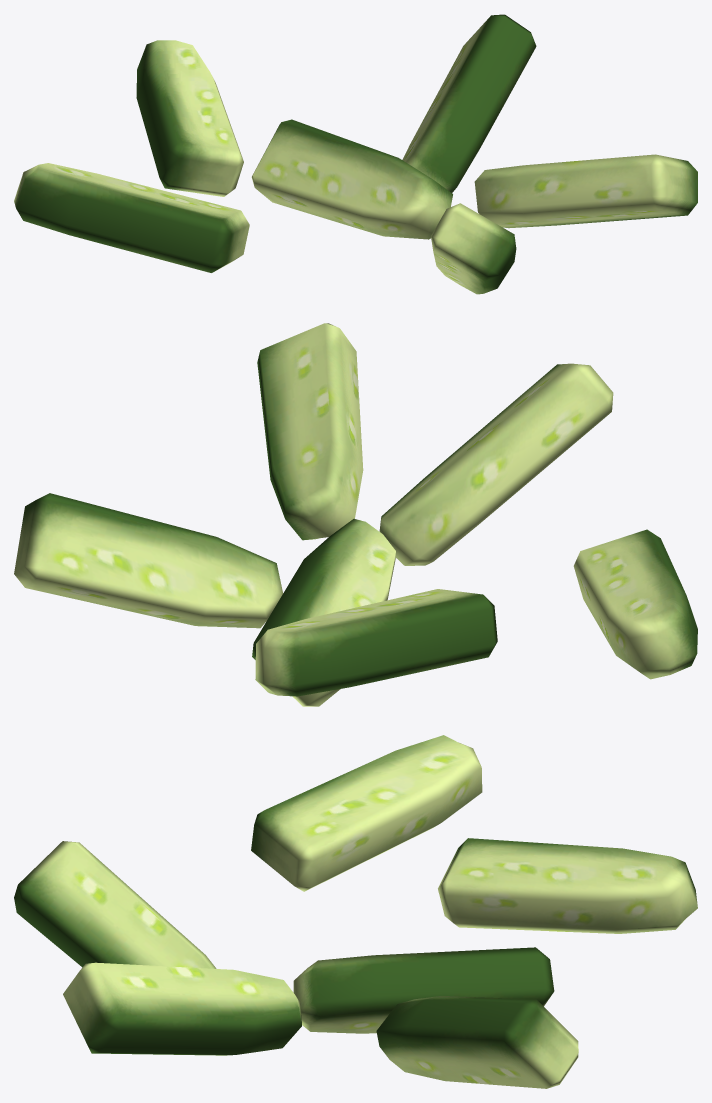
The model's file is Cucumber.fbx.
The picture shows the model from 3 angles, top to bottom: view 1: azimuth 30°, elevation 25°; view 2: azimuth 150°, elevation 25°; view 3: azimuth 270°, elevation 25°; orthographic projection. The views are drawn at different scales.
Parts seen in each view (by area): view 1: plated_sushi_cucumber_01; view 2: plated_sushi_cucumber_01; view 3: plated_sushi_cucumber_01.
Boxes of the visible parts, bbox=[...] form: plated_sushi_cucumber_01: bbox=[14, 14, 697, 294]; plated_sushi_cucumber_01: bbox=[14, 323, 697, 706]; plated_sushi_cucumber_01: bbox=[14, 735, 697, 1088].
Size of the model in its own units: 88.81 by 23.77 by 86.97.
